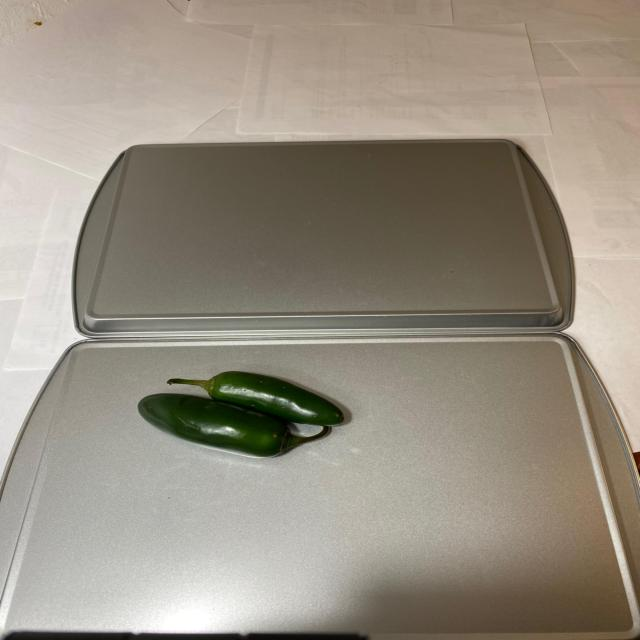chilli: (124, 374, 356, 466)
